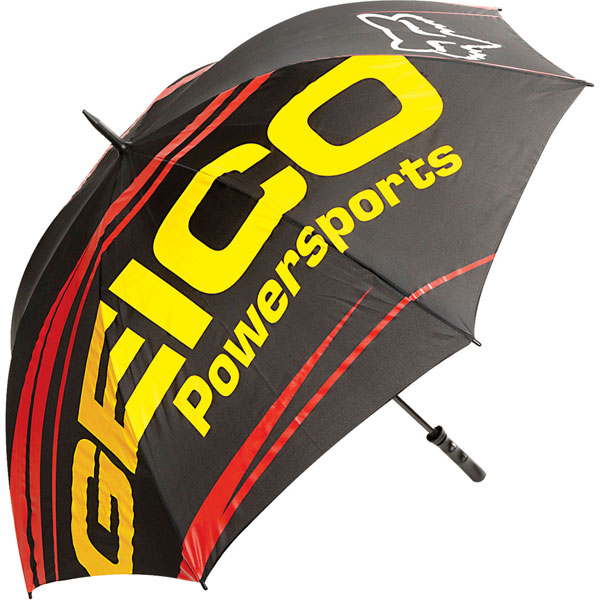geico: (52, 48, 447, 584)
